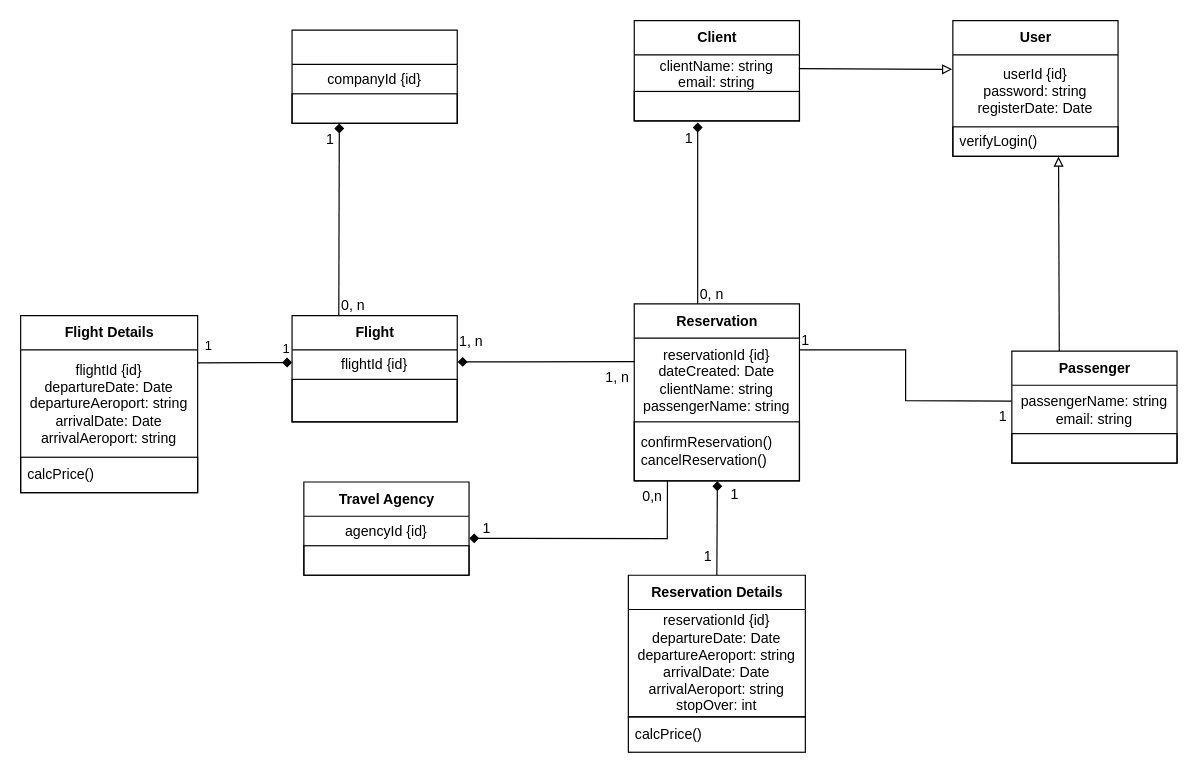
Image size: 1198x773. Some labels were removed from this diagram. The box of each missing label's shape, as (x1, y1, x2, y2) in pixels:
Airplane Company: (291, 29, 457, 123)
checkIn(): (1011, 432, 1177, 463)
confirmFlight() cancelFlight(): (291, 378, 457, 422)
makeReservation(): (633, 90, 799, 121)
offerFlight(): (291, 93, 457, 123)
offerReservation(): (303, 545, 469, 575)
